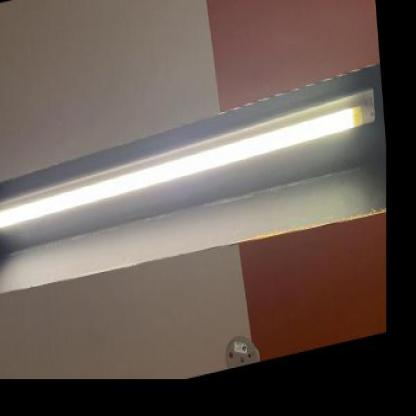light_on: (0, 75, 387, 253)
